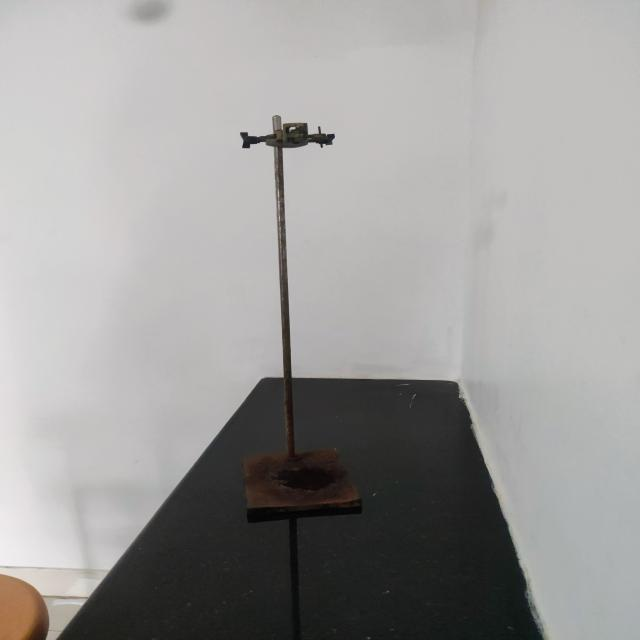Burette_Stands: (182, 80, 428, 562)
